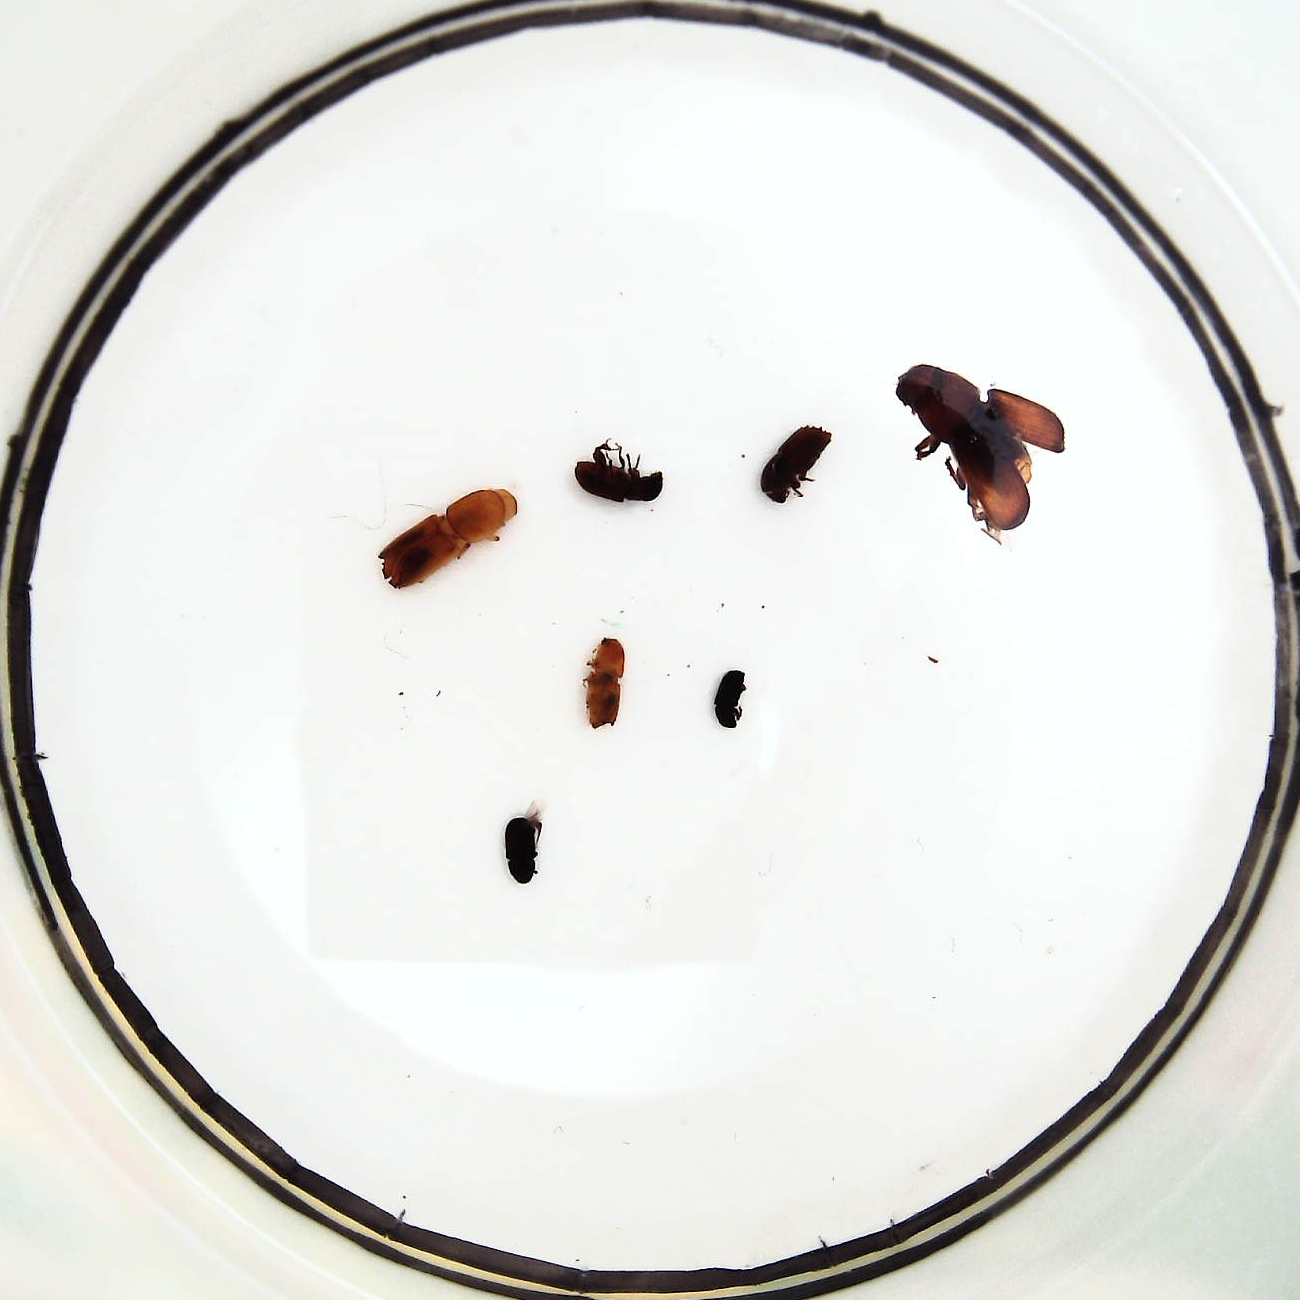Boerner: (379, 489, 515, 592)
Leconte: (892, 363, 1067, 532)
Linnaeus: (760, 426, 835, 507)
acuminatus: (583, 636, 629, 729)
armandi: (574, 444, 665, 505)
coleoptera: (504, 814, 543, 885), (715, 669, 746, 726)
